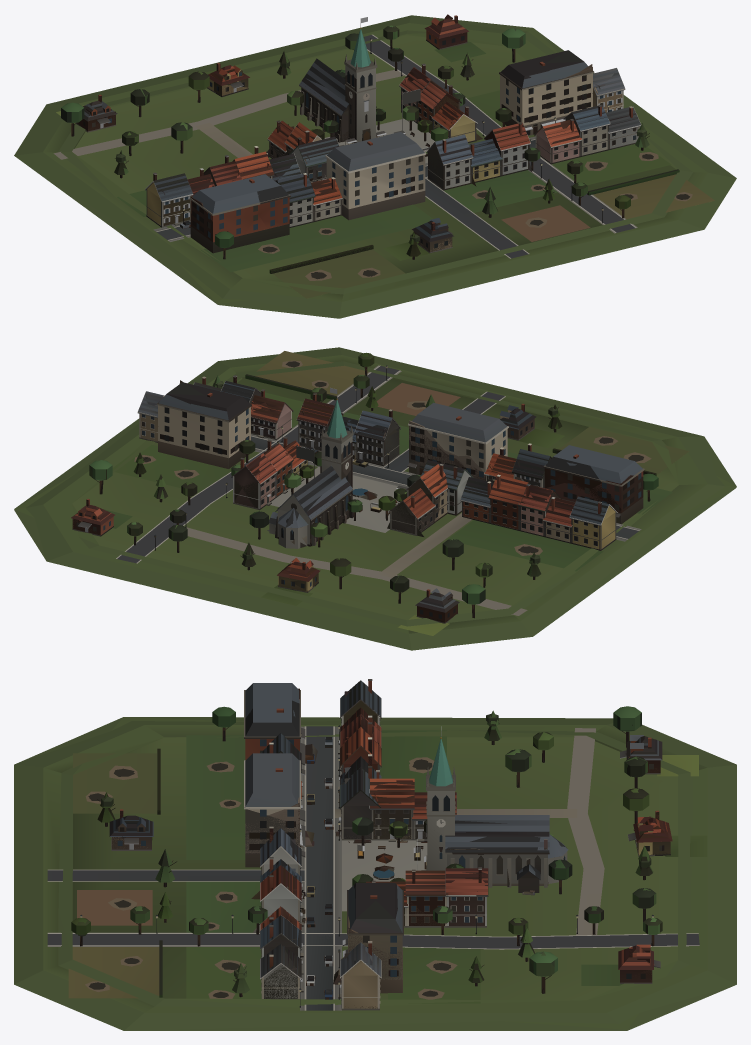
File: city_any_town_fractured.glb
3 renders of one model, top to bottom at view 1: azimuth 30°, elevation 25°; view 2: azimuth 150°, elevation 25°; view 3: azimuth 270°, elevation 25°, orthographic. The views are drawn at different scales.
Parts seen in each view (by area): view 1: city_any_town_RUIN_LOD2_mesh, city_any_town_DMG_mesh, city_any_town_RUIN_LOD0_mesh, city_any_town_RUIN_LOD1_mesh, city_any_town_FRAC_12_mesh, city_any_town_FRAC_20_mesh, city_any_town_FRAC_00_mesh, city_any_town_FRAC_25_mesh, city_any_town_FRAC_09_mesh, city_any_town_FRAC_22_mesh, city_any_town_FRAC_18_mesh, city_any_town_FRAC_28_mesh (+13 smaller); view 2: city_any_town_RUIN_LOD2_mesh, city_any_town_DMG_mesh, city_any_town_RUIN_LOD1_mesh, city_any_town_RUIN_LOD0_mesh, city_any_town_FRAC_12_mesh, city_any_town_FRAC_08_mesh, city_any_town_FRAC_18_mesh, city_any_town_FRAC_13_mesh, city_any_town_FRAC_15_mesh, city_any_town_FRAC_27_mesh, city_any_town_FRAC_00_mesh, city_any_town_FRAC_28_mesh (+12 smaller); view 3: city_any_town_RUIN_LOD2_mesh, city_any_town_DMG_mesh, city_any_town_RUIN_LOD0_mesh, city_any_town_RUIN_LOD1_mesh, city_any_town_FRAC_15_mesh, city_any_town_FRAC_12_mesh, city_any_town_FRAC_27_mesh, city_any_town_FRAC_28_mesh, city_any_town_FRAC_29_mesh, city_any_town_FRAC_00_mesh, city_any_town_FRAC_09_mesh, city_any_town_FRAC_20_mesh (+12 smaller).
Part boxes in pixels (box(x1,y1,x2,y2)): city_any_town_RUIN_LOD2_mesh: box(21, 15, 728, 318); city_any_town_DMG_mesh: box(14, 14, 736, 318); city_any_town_RUIN_LOD0_mesh: box(55, 17, 714, 298); city_any_town_RUIN_LOD1_mesh: box(19, 16, 731, 315); city_any_town_FRAC_12_mesh: box(325, 132, 426, 208); city_any_town_FRAC_20_mesh: box(244, 173, 350, 228); city_any_town_FRAC_00_mesh: box(189, 183, 260, 257); city_any_town_FRAC_25_mesh: box(563, 105, 644, 158); city_any_town_FRAC_09_mesh: box(477, 122, 567, 177); city_any_town_FRAC_22_mesh: box(408, 134, 493, 194); city_any_town_FRAC_18_mesh: box(145, 168, 212, 228); city_any_town_FRAC_28_mesh: box(344, 17, 377, 104); city_any_town_RUIN_LOD2_mesh: box(14, 361, 736, 631); city_any_town_DMG_mesh: box(14, 347, 736, 650); city_any_town_RUIN_LOD1_mesh: box(26, 348, 725, 647); city_any_town_RUIN_LOD0_mesh: box(56, 351, 694, 635); city_any_town_FRAC_12_mesh: box(408, 402, 508, 477); city_any_town_FRAC_08_mesh: box(454, 473, 548, 534); city_any_town_FRAC_18_mesh: box(540, 489, 617, 549); city_any_town_FRAC_13_mesh: box(182, 393, 250, 468); city_any_town_FRAC_15_mesh: box(281, 464, 351, 545); city_any_town_FRAC_27_mesh: box(226, 441, 310, 509); city_any_town_FRAC_00_mesh: box(586, 451, 658, 506); city_any_town_FRAC_28_mesh: box(320, 388, 353, 469); city_any_town_RUIN_LOD2_mesh: box(19, 717, 732, 1030); city_any_town_DMG_mesh: box(14, 679, 736, 1030); city_any_town_RUIN_LOD0_mesh: box(47, 690, 707, 1008); city_any_town_RUIN_LOD1_mesh: box(18, 688, 732, 1027); city_any_town_FRAC_15_mesh: box(444, 815, 564, 887); city_any_town_FRAC_12_mesh: box(244, 753, 302, 845); city_any_town_FRAC_27_mesh: box(390, 843, 485, 934); city_any_town_FRAC_28_mesh: box(426, 726, 455, 833); city_any_town_FRAC_29_mesh: box(300, 768, 407, 855); city_any_town_FRAC_00_mesh: box(212, 683, 300, 739); city_any_town_FRAC_09_mesh: box(202, 865, 302, 933); city_any_town_FRAC_20_mesh: box(244, 707, 314, 808).
Size of the model in its own units: 176 by 41.73 by 172.
